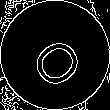O_NE: (21, 22, 89, 88)
